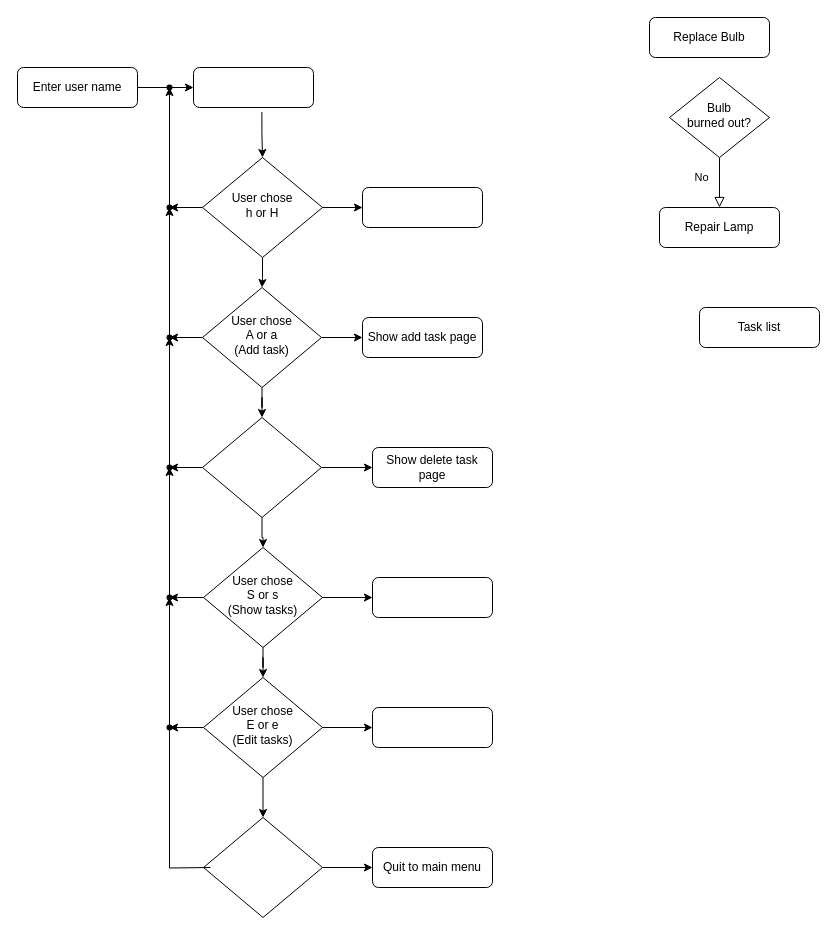
This 837x935 diagram has some shape labels left out. The shapes that lost their labels are listed below. From the top down, each one's box as (x1, y1, x2, y2) in pixels, then its label:
(192, 66, 314, 108): Actions menu
(362, 186, 482, 228): Show help page
(202, 416, 322, 518): User chose D or d (Delete task)
(372, 576, 492, 618): Show all tasks page
(372, 706, 492, 748): Show edit tasks page
(202, 816, 322, 918): User chose Q or q (Quit)
